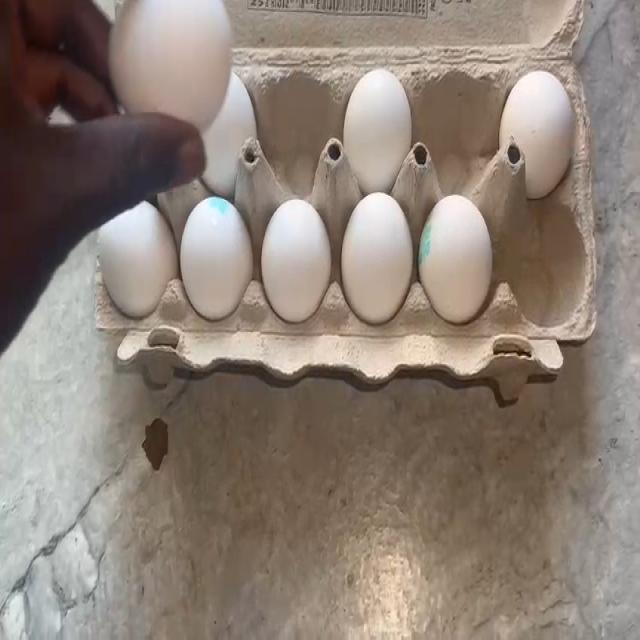Egg: (108, 0, 225, 98), (343, 206, 409, 315), (188, 194, 247, 304), (270, 212, 323, 322), (102, 218, 168, 304), (505, 80, 568, 170), (352, 74, 408, 173), (426, 208, 489, 295)
